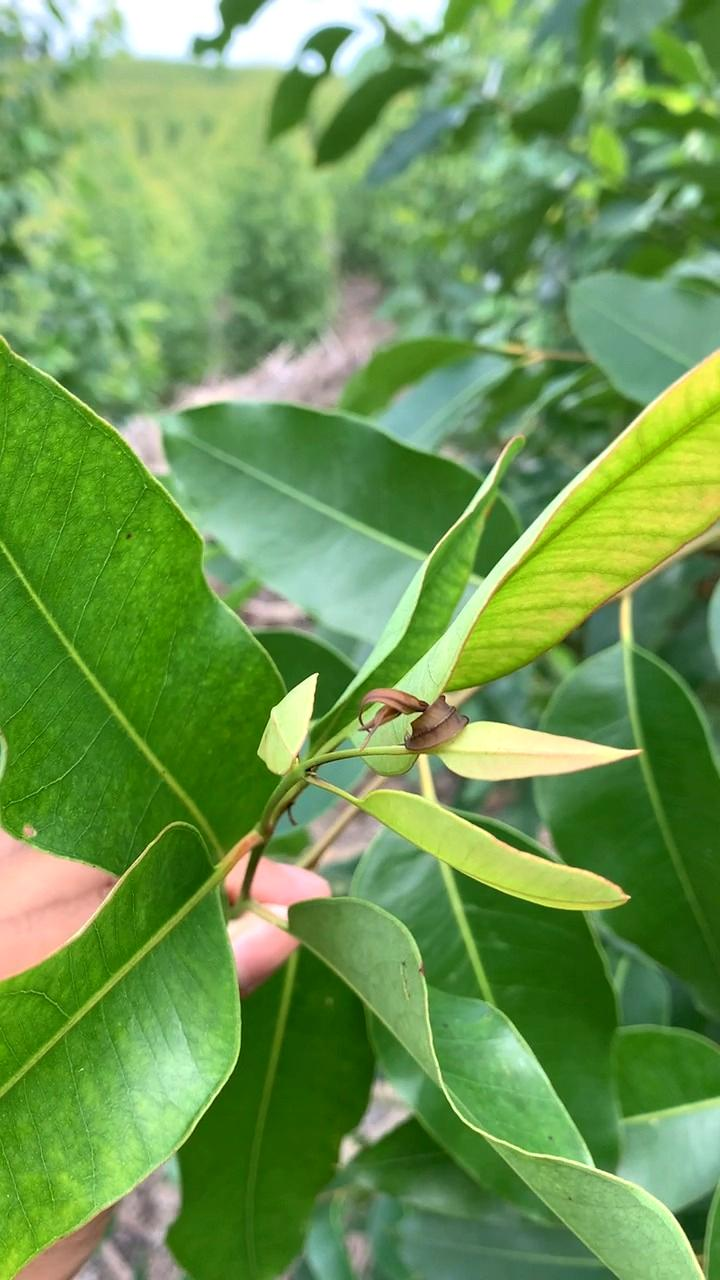Helopeltis-Withered Sprout: (340, 656, 491, 775)
